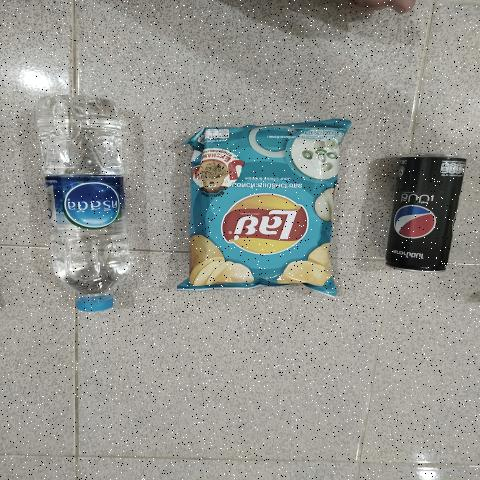crystal: (49, 88, 121, 321)
lay_blue: (212, 128, 322, 278)
pepsi_black: (408, 156, 447, 272)
